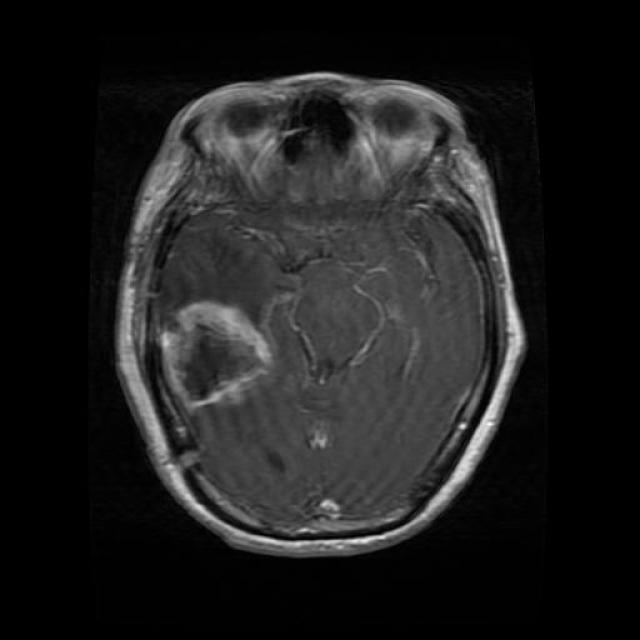glioma: (156, 298, 272, 414)
